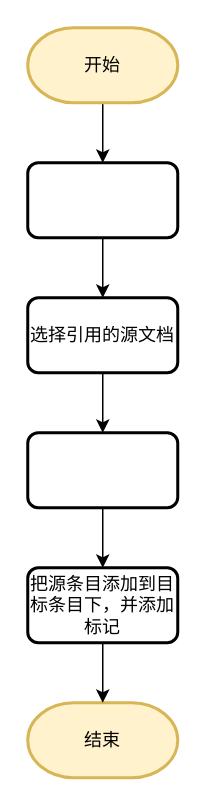
Image size: 204x804. Some labels were removed from this diagram. The shapes that lost their labels are listed below. From the top down, each one's box as (x1, y1, x2, y2) in pixels, then its label:
(26, 160, 178, 238): 选择需要挂载 的目标条目
(26, 430, 178, 508): 选择文档下 引用的源条目
